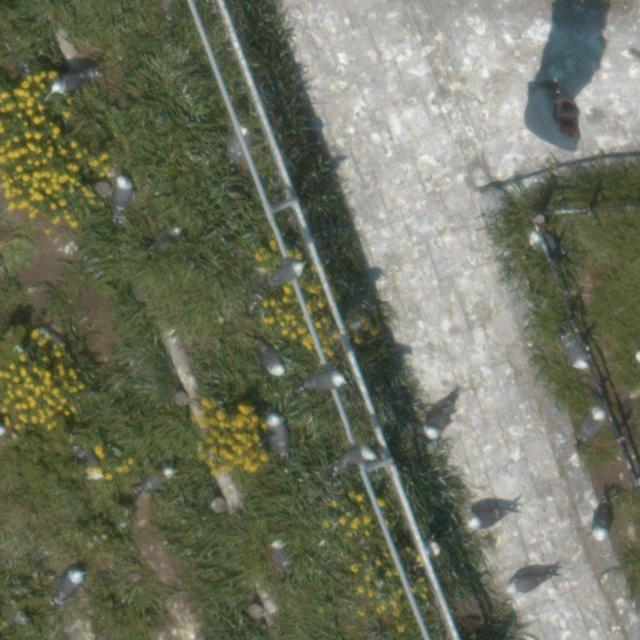umineko: (421, 397, 461, 442), (558, 331, 592, 374), (144, 466, 176, 490), (509, 573, 546, 593), (56, 570, 80, 600), (528, 232, 558, 256), (469, 507, 504, 527), (270, 536, 290, 571), (53, 72, 87, 92), (336, 446, 371, 465), (580, 408, 602, 436), (115, 178, 133, 212), (305, 372, 341, 388), (271, 262, 301, 281), (270, 417, 286, 452), (261, 349, 282, 374), (592, 509, 608, 539), (153, 226, 178, 245), (0, 412, 5, 435)
